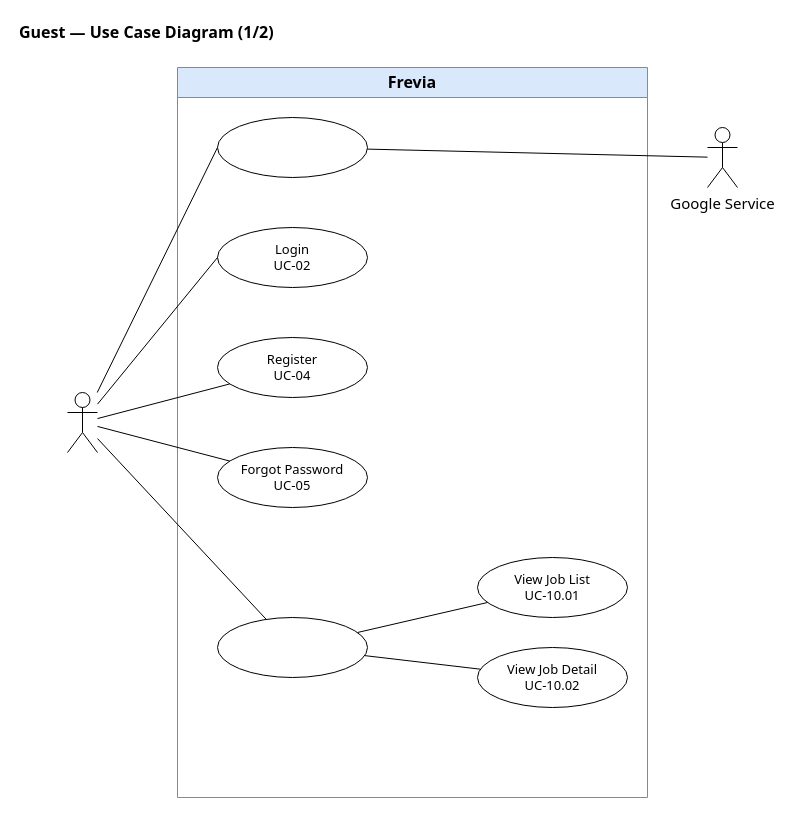
Image size: 792x815. Some labels were removed from this diagram. Each missing label, with the box of its shape:
Guest: (66, 392, 98, 452)
Job Browsing UC-10: (216, 616, 368, 678)
Login with Google UC-01: (216, 116, 368, 178)
